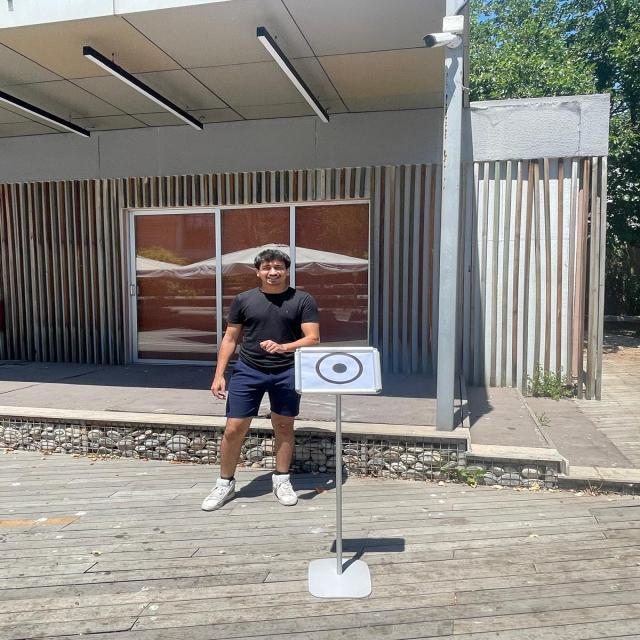Target: (288, 339, 393, 397)
inner: (331, 358, 349, 380)
